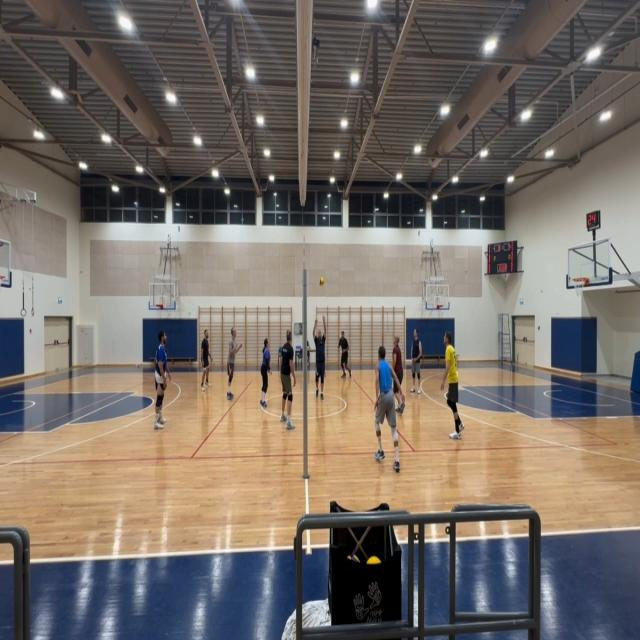volleyball: (320, 277, 324, 286)
